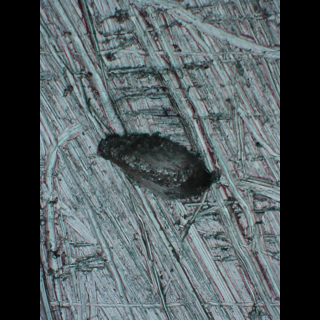d: (92, 126, 225, 201)
